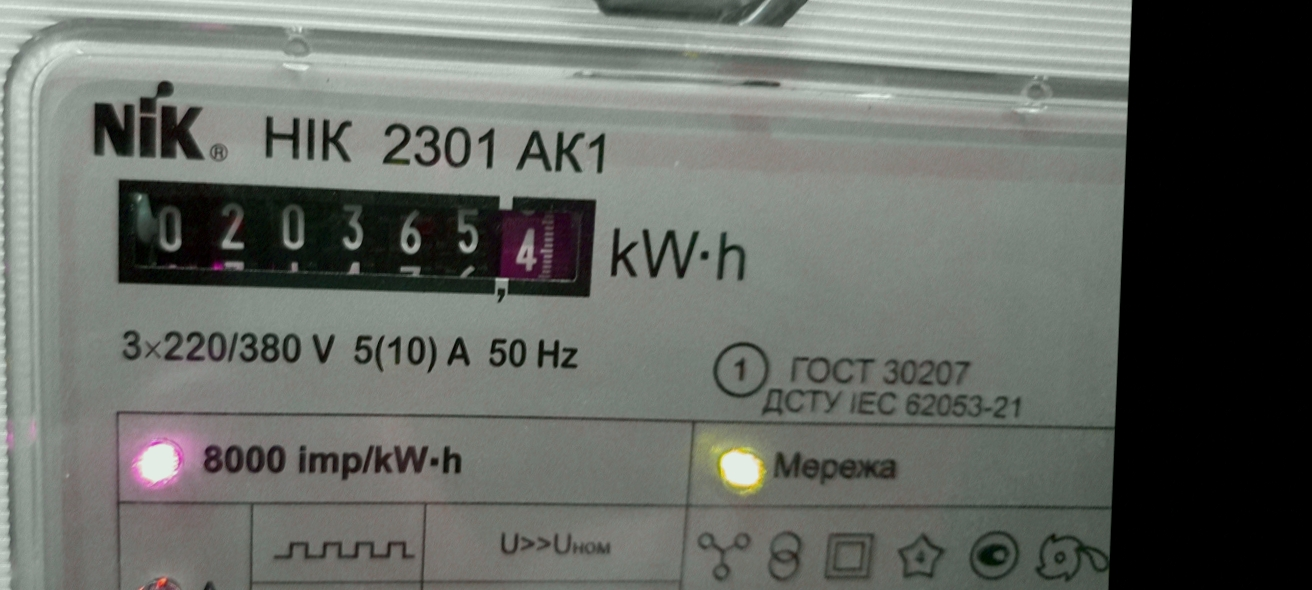0: (152, 199, 187, 255), (278, 201, 309, 252)
2: (216, 199, 248, 251)
3: (337, 202, 368, 252)
4: (513, 223, 538, 272)
5: (454, 207, 483, 254)
6: (396, 204, 424, 256)
screen: (100, 161, 613, 318)
